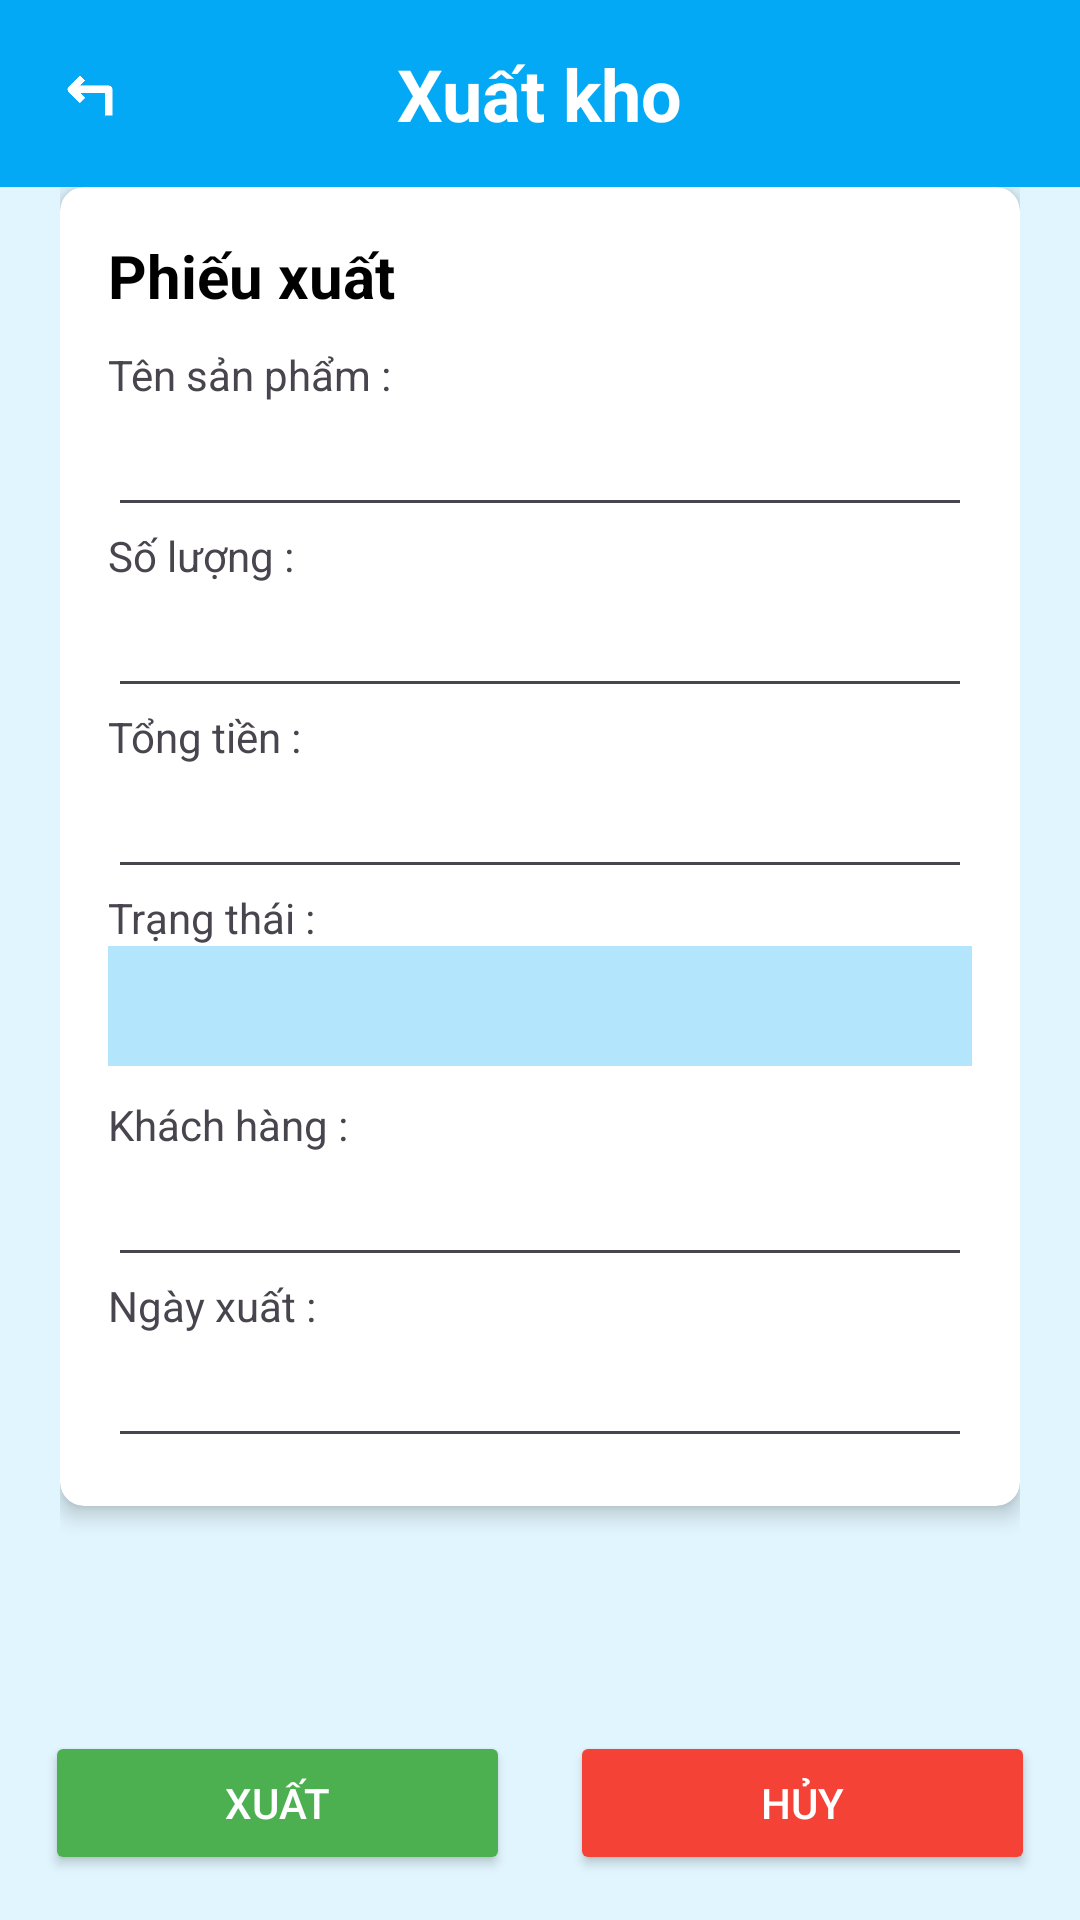

Icons on this 1080*1920 Android screen, each with its box as (x1, y1, x2, y2):
arrow back: (67, 76, 113, 116)
